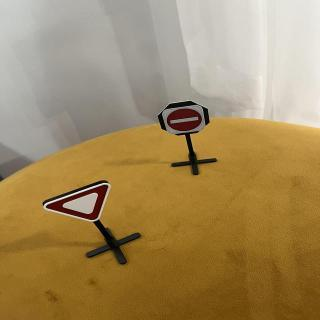sign_noentry: (162, 104, 208, 136)
sign_yield: (44, 183, 117, 224)
